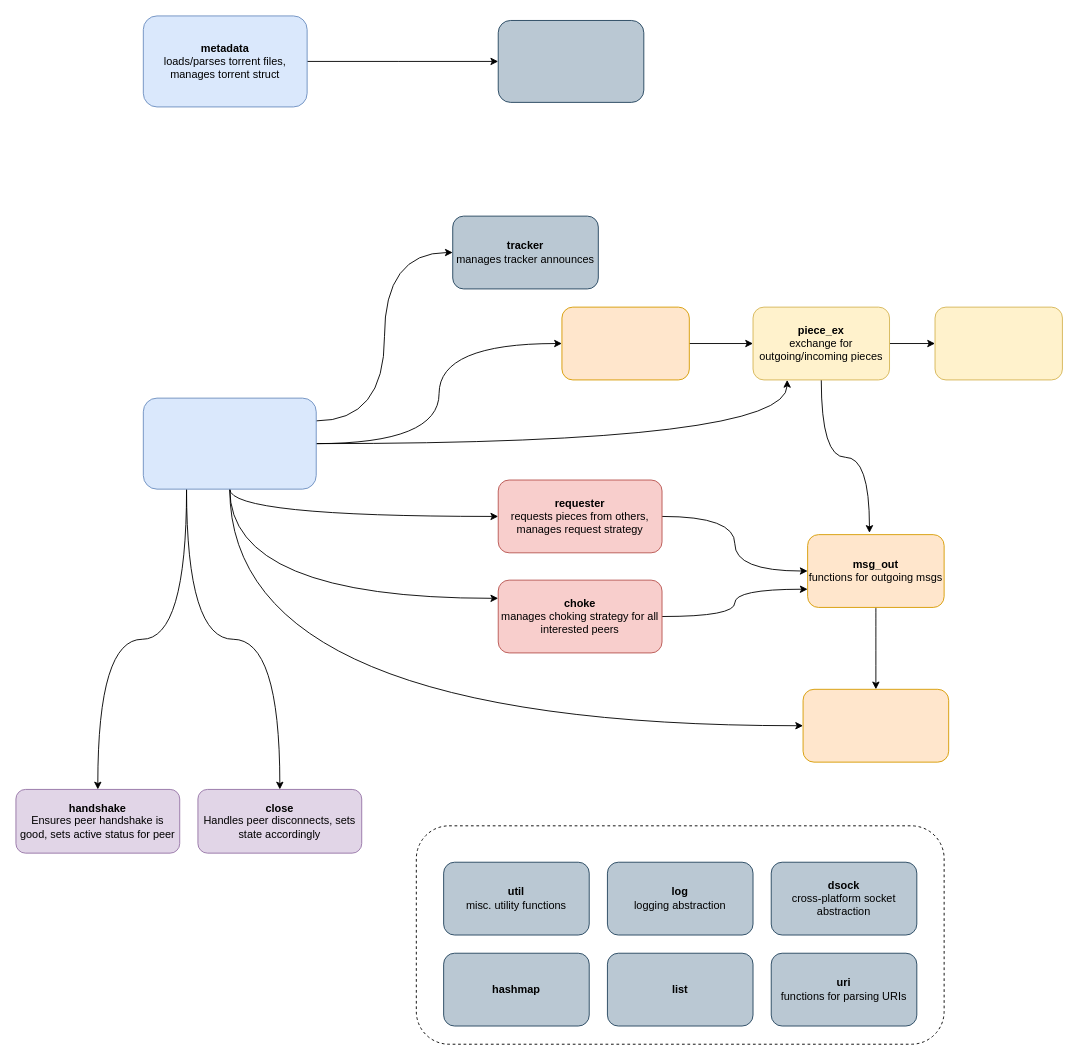
This 1078x1060 diagram has some shape labels left out. Each missing label, with the box of its shape:
Aux: (415, 825, 944, 1044)
bencoding_encode/decode functions for encoding/decoding bencoding: (497, 20, 644, 102)
fs handles piece r/w, file init: (934, 306, 1062, 380)
manager function for managing torrents, loops through peers and handles them: (142, 397, 316, 489)
msg_in handles incoming msg: (561, 306, 689, 380)
stream handles message extraction/sending over the socket stream: (802, 688, 949, 762)
